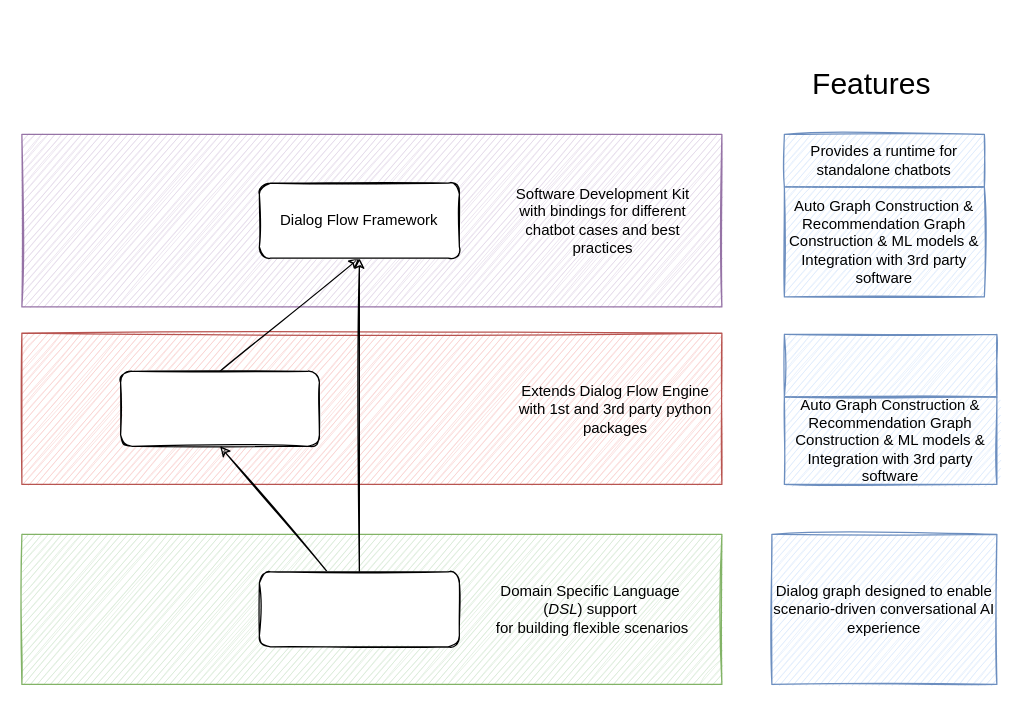
The diagram is 1031 pixels wide and 706 high, and some of its shapes have lost their labels. The centre of each missing label's shape, as x and y in pixels:
"Data collection & Data analysis of user behaviors & Optimization Graph Execution" belongs at point (890, 365).
"Dialog Flow Addons" belongs at point (219, 408).
"Dialog Flow Engine" belongs at point (358, 609).
